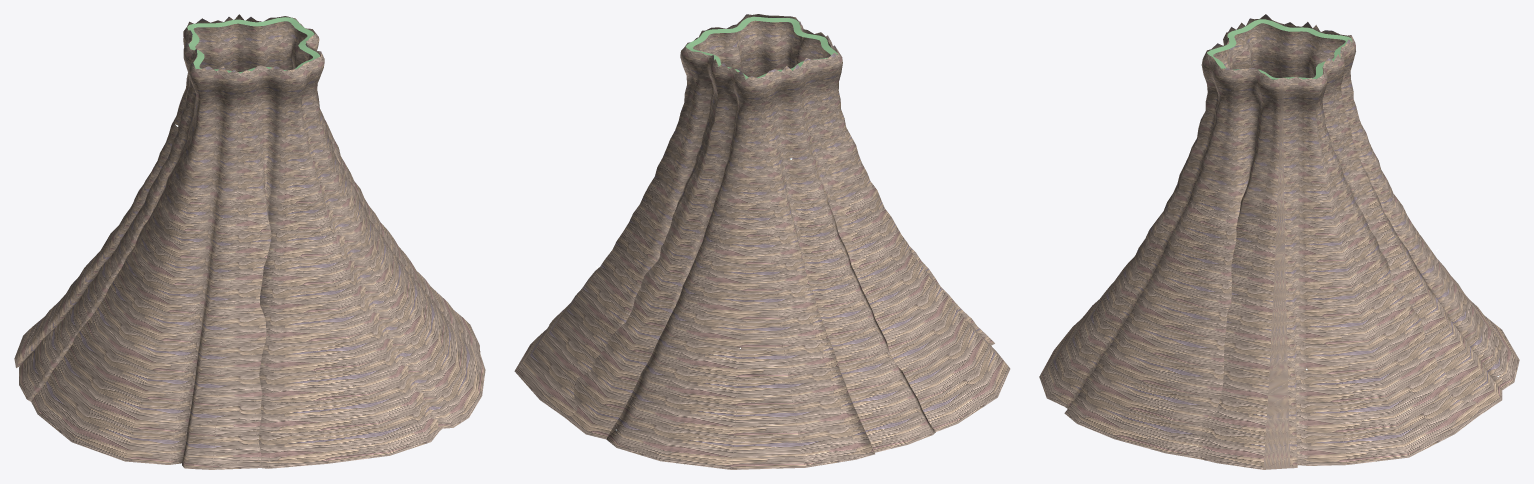
File: CliffWall_stack_03.glb
The picture shows the model from 3 angles, left to right: view 1: azimuth 30°, elevation 25°; view 2: azimuth 150°, elevation 25°; view 3: azimuth 270°, elevation 25°; orthographic projection.
Parts seen in each view (by area): view 1: CliffWall_stack_03-rock0, CliffWall_stack_03-lip0; view 2: CliffWall_stack_03-rock0, CliffWall_stack_03-lip0; view 3: CliffWall_stack_03-rock0, CliffWall_stack_03-lip0.
Part boxes in pixels (x1=…): CliffWall_stack_03-rock0: x1=14, y1=14, x2=485, y2=469; CliffWall_stack_03-lip0: x1=187, y1=17, x2=319, y2=73; CliffWall_stack_03-rock0: x1=514, y1=14, x2=1010, y2=469; CliffWall_stack_03-lip0: x1=685, y1=16, x2=837, y2=79; CliffWall_stack_03-rock0: x1=1039, y1=14, x2=1519, y2=469; CliffWall_stack_03-lip0: x1=1207, y1=19, x2=1352, y2=79.
Size of the model in its own units: 593 by 446 by 599.
Materials: 3 (1 with a texture image).
